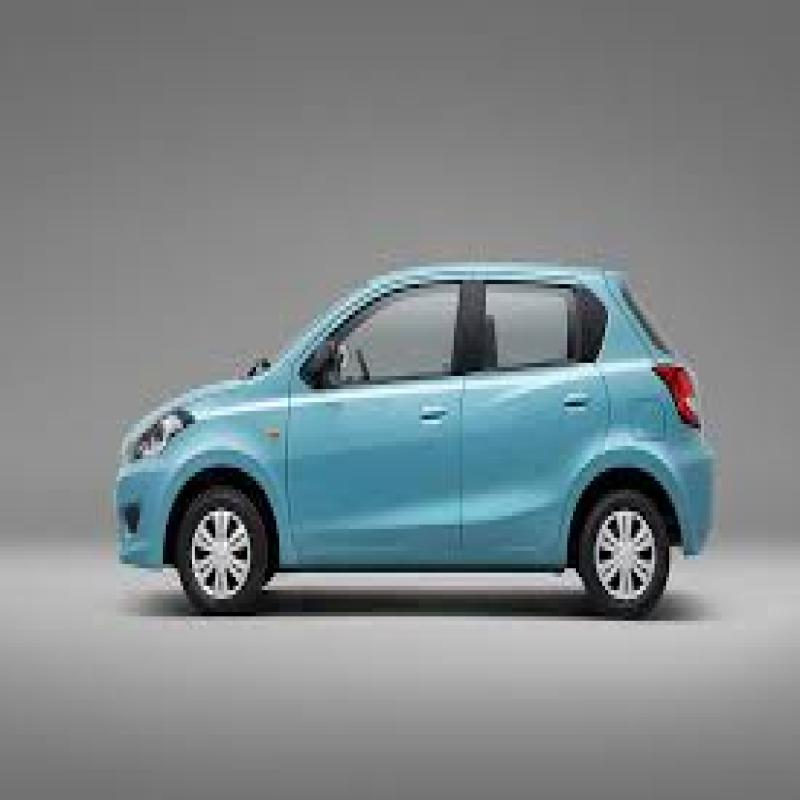car: (71, 244, 728, 617)
